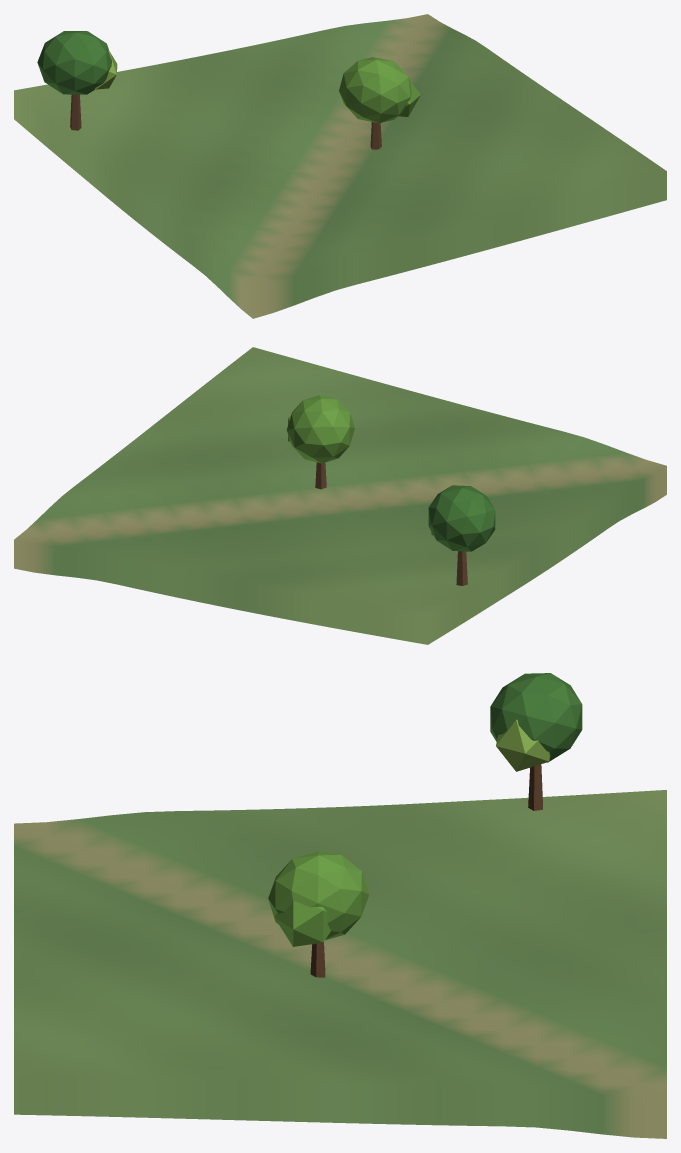
The picture shows the model from 3 angles, top to bottom: view 1: azimuth 30°, elevation 25°; view 2: azimuth 150°, elevation 25°; view 3: azimuth 270°, elevation 25°; orthographic projection. The views are drawn at different scales.
Visible parts, largest first — view 1: terrain, scenery; view 2: terrain, scenery; view 3: terrain, scenery.
Part boxes in pixels (x1,y1,x2,y2): terrain: (14, 14, 666, 318); scenery: (37, 31, 420, 149); terrain: (14, 347, 666, 644); scenery: (286, 395, 495, 585); terrain: (14, 790, 666, 1138); scenery: (268, 673, 582, 977).
Size of the model in its own units: 31.33 by 9.91 by 30.
